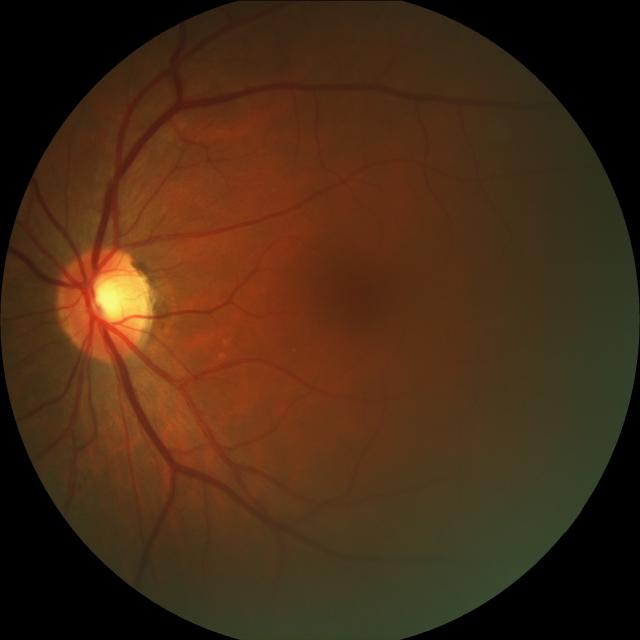OC: (84, 274, 130, 324)
OD: (54, 245, 152, 360)
